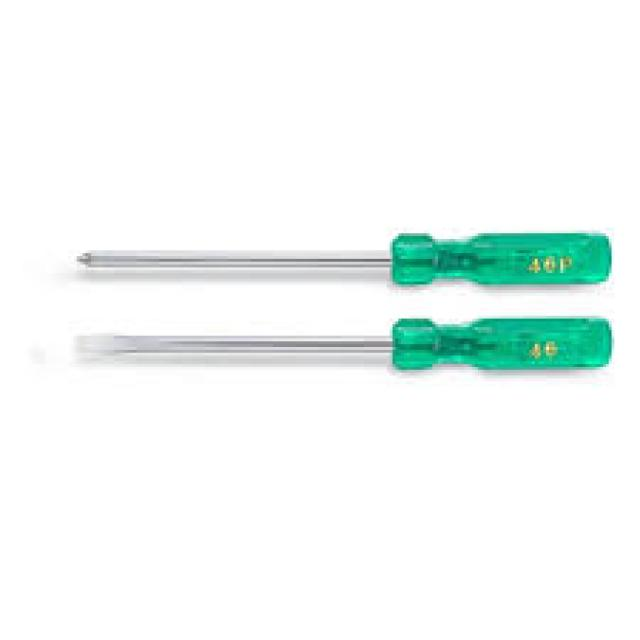screw driver: (53, 311, 639, 411), (62, 207, 640, 301)
